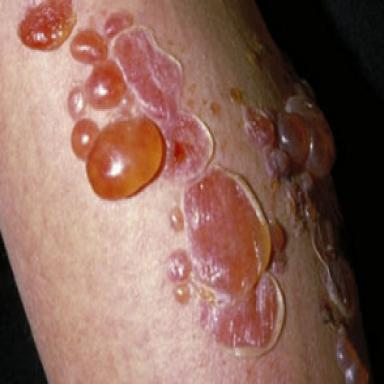Impetigo: (67, 11, 288, 359), (228, 82, 369, 382), (19, 0, 77, 50)
